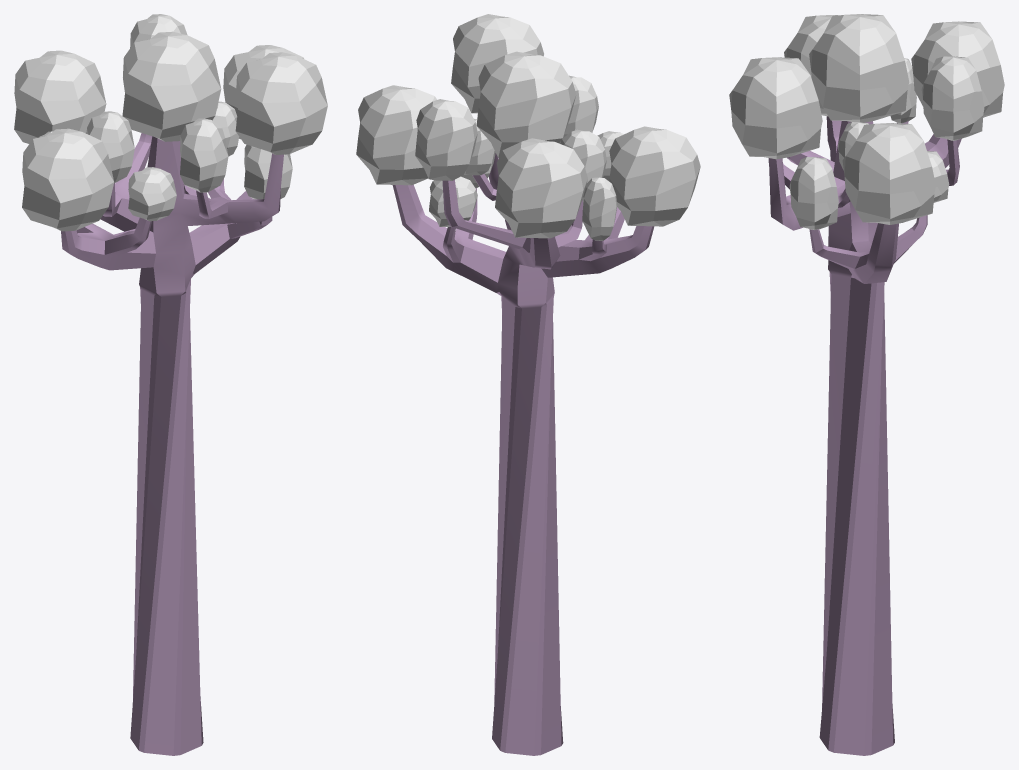
The model's file is arbreBranchesNeige.fbx.
The picture shows the model from 3 angles, left to right: view 1: azimuth 30°, elevation 25°; view 2: azimuth 150°, elevation 25°; view 3: azimuth 270°, elevation 25°; orthographic projection. The views are drawn at different scales.
Parts seen in each view (by area): view 1: polySurface12; view 2: polySurface12; view 3: polySurface12.
Part boxes in pixels (left/top/right/bottom): polySurface12: left=14, top=14, right=327, bottom=755; polySurface12: left=356, top=14, right=700, bottom=755; polySurface12: left=729, top=14, right=1004, bottom=755.
Bounding box in the file's own units: 295 × 627 × 216.
